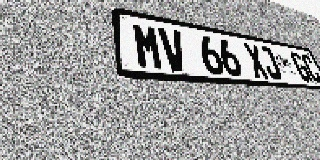6: (196, 34, 226, 75), (215, 38, 244, 77)
C: (299, 53, 320, 83)
G: (289, 51, 313, 82)
J: (257, 45, 284, 80)
M: (131, 22, 165, 71)
V: (157, 27, 190, 72)
X: (242, 43, 270, 79)
